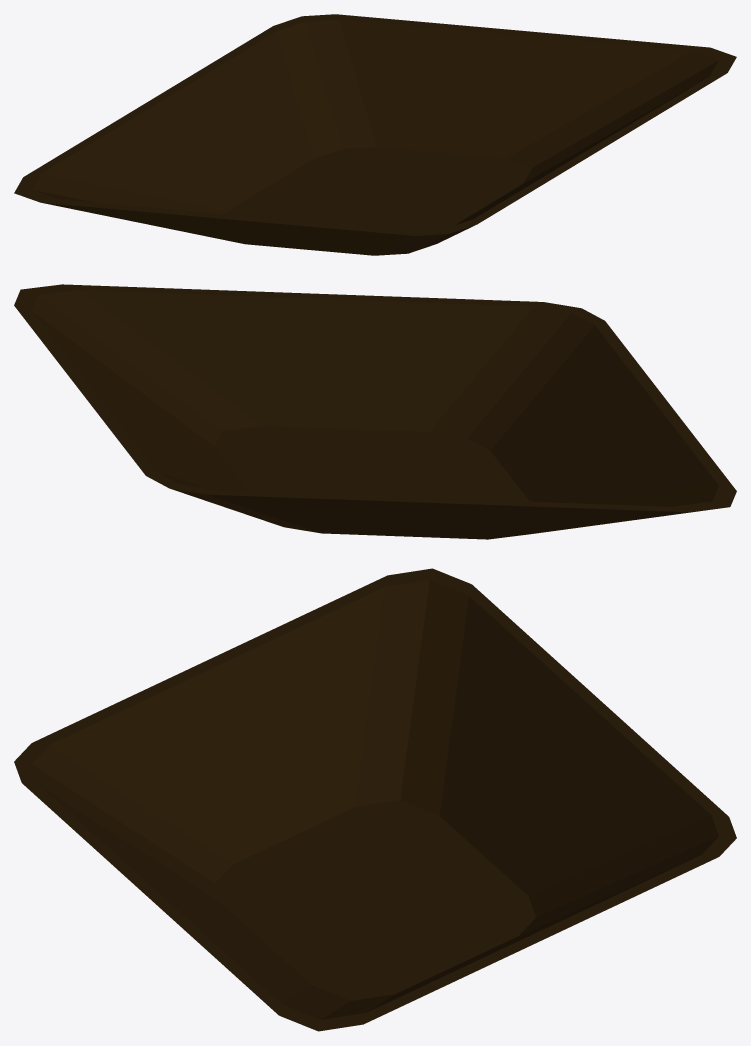
File: hexagonalPlatter.fbx
3 views of the same model, one above another, from view 1: azimuth 30°, elevation 25°; view 2: azimuth 150°, elevation 25°; view 3: azimuth 270°, elevation 25° (orthographic). The views are drawn at different scales.
Parts seen in each view (by area): view 1: hexagonalPlatter; view 2: hexagonalPlatter; view 3: hexagonalPlatter.
Boxes of the visible parts, x1,y1,x2,y2 form: hexagonalPlatter: [14, 14, 736, 255]; hexagonalPlatter: [14, 284, 736, 539]; hexagonalPlatter: [14, 568, 736, 1031].
Bounding box in the file's own units: 35.77 × 4.02 × 23.6.
